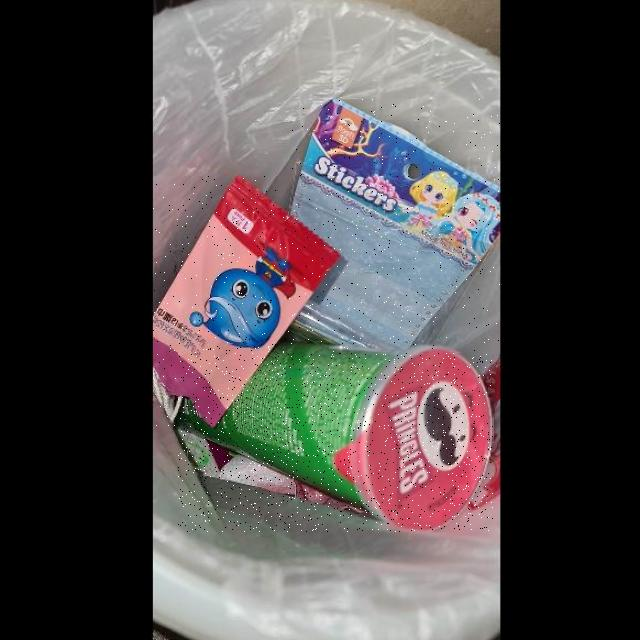paper: (178, 344, 493, 532), (291, 99, 501, 353)
wrapper: (153, 177, 342, 428)
